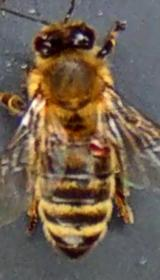varroa_mite: (78, 132, 118, 164)
